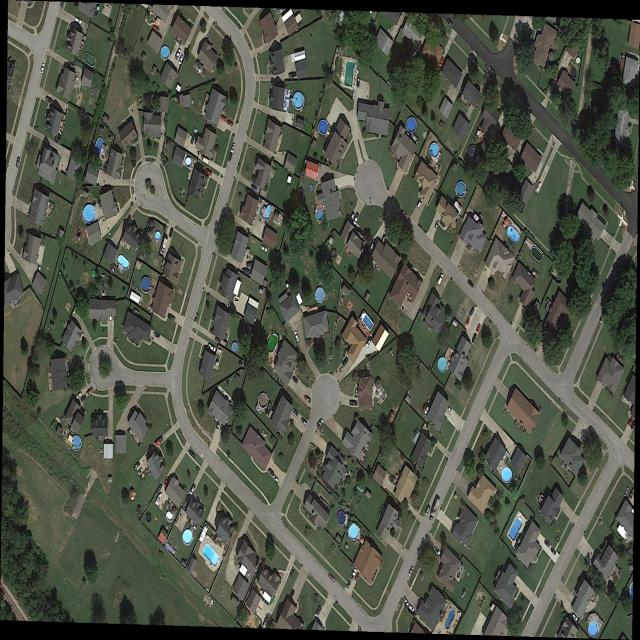large-vehicle: (428, 498, 441, 523), (535, 182, 542, 195), (446, 18, 454, 29), (543, 539, 551, 548), (628, 415, 634, 427), (572, 612, 579, 622), (550, 547, 556, 555)
ship: (155, 491, 164, 508)
small-vehicle: (174, 47, 182, 62), (161, 236, 169, 251), (154, 436, 164, 448), (352, 212, 360, 227), (201, 154, 210, 167), (262, 615, 270, 629), (341, 355, 349, 369), (350, 567, 358, 581), (300, 416, 309, 428), (401, 209, 410, 221), (189, 483, 197, 496), (167, 312, 176, 323), (316, 417, 324, 429), (292, 373, 300, 385), (437, 273, 444, 286), (315, 604, 322, 617), (294, 330, 301, 343), (369, 238, 376, 251), (74, 16, 83, 26), (327, 572, 336, 582), (207, 343, 216, 353), (303, 394, 313, 403), (153, 330, 161, 341), (86, 387, 94, 398), (471, 332, 478, 344), (408, 565, 415, 577), (366, 336, 373, 348), (15, 156, 21, 169), (137, 466, 144, 477), (134, 460, 141, 471), (424, 505, 431, 516), (438, 57, 445, 68), (475, 323, 482, 334), (292, 406, 299, 417), (178, 54, 184, 66), (228, 152, 234, 164), (260, 244, 268, 253), (168, 227, 174, 239), (465, 316, 471, 328), (354, 571, 360, 583), (349, 211, 355, 223), (214, 335, 222, 344), (403, 595, 409, 607), (268, 467, 275, 477), (433, 546, 440, 556), (189, 449, 196, 459), (408, 603, 415, 613), (434, 220, 440, 231), (190, 134, 196, 145), (417, 198, 423, 209), (380, 234, 386, 245), (350, 399, 358, 407), (205, 169, 213, 177), (468, 279, 475, 288), (81, 393, 88, 402), (76, 392, 83, 401), (221, 114, 228, 123), (227, 119, 234, 128), (40, 62, 45, 74), (231, 142, 236, 154), (469, 307, 475, 317), (446, 404, 452, 414), (346, 580, 352, 590), (274, 473, 279, 484), (252, 183, 258, 192), (216, 420, 221, 430), (356, 78, 361, 88)
